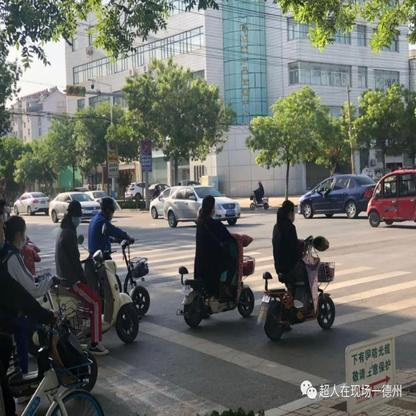target: (260, 199, 340, 341), (179, 195, 255, 330)
